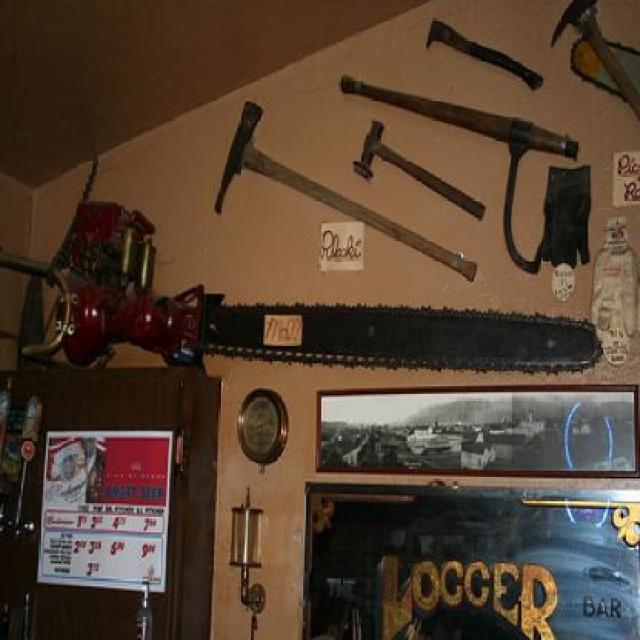Chainsaw: (26, 200, 602, 382)
